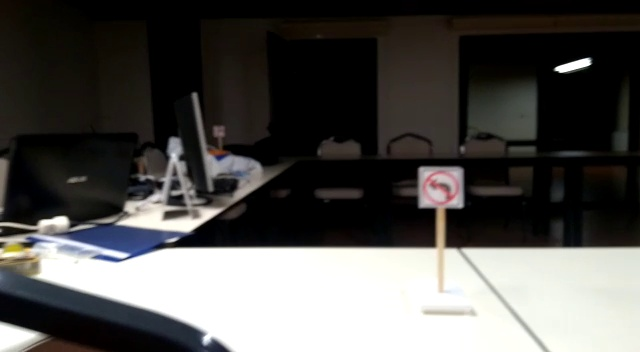sola_donulmez: (413, 165, 463, 206)
